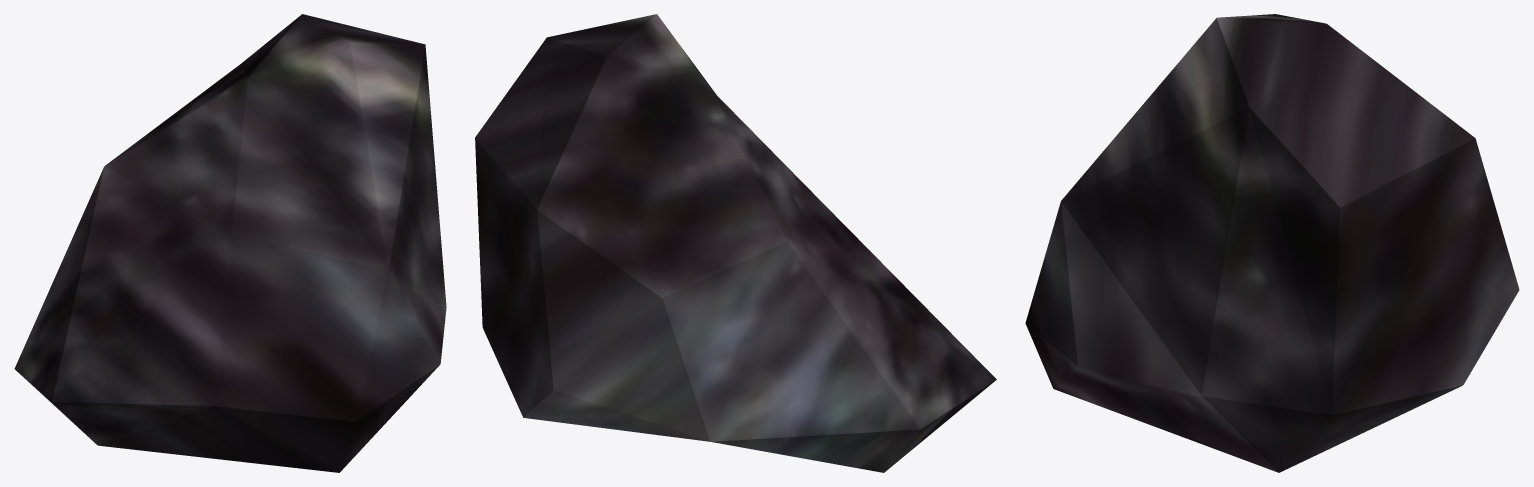
The model's file is rock1.glb.
3 renders of one model, left to right at view 1: azimuth 30°, elevation 25°; view 2: azimuth 150°, elevation 25°; view 3: azimuth 270°, elevation 25°, orthographic. The views are drawn at different scales.
Parts seen in each view (by area): view 1: Rock1; view 2: Rock1; view 3: Rock1.
Boxes of the visible parts, x1,y1,x2,y2 form: Rock1: (14,14,446,472); Rock1: (475,14,996,472); Rock1: (1025,14,1519,472).
Size of the model in its own units: 0.7409 by 0.6015 by 0.6392.
Materials: 1 (1 with a texture image).
